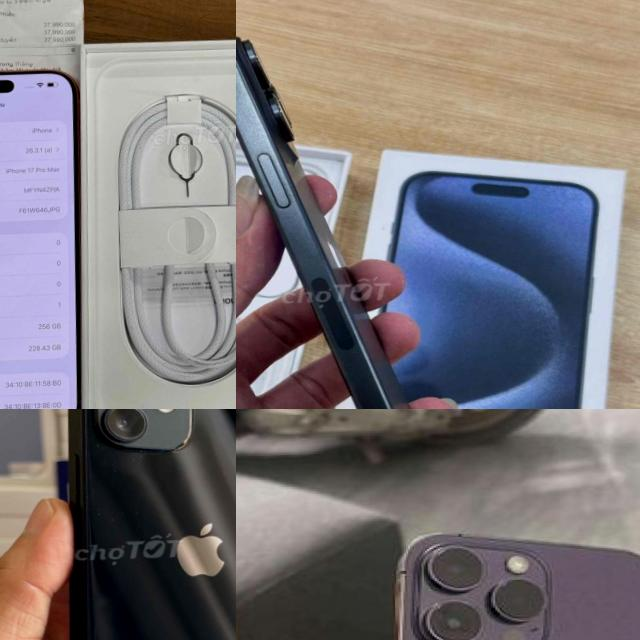gen_12_13: (61, 409, 236, 640)
gen_14: (364, 523, 640, 640)
gen_15: (236, 8, 477, 409)
gen_17: (0, 63, 97, 409)
